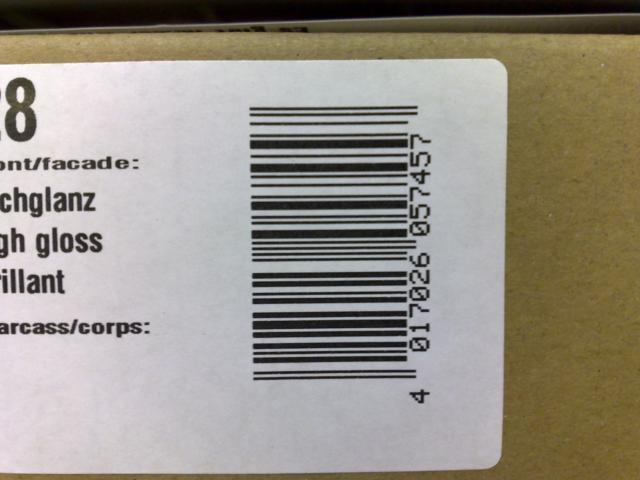Barcode: (239, 92, 446, 427)
